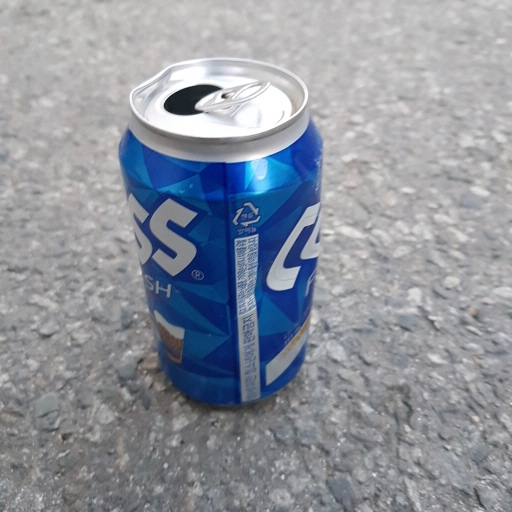Metal_0: (117, 52, 325, 407)
